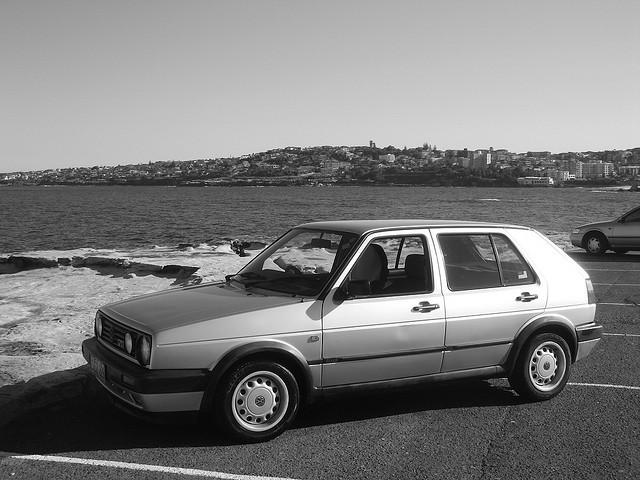car: (78, 222, 605, 441)
